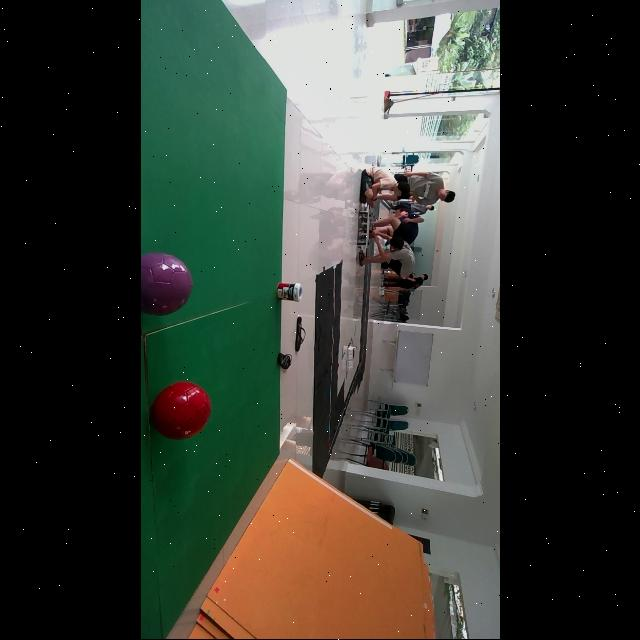P: (140, 253, 193, 316)
R: (151, 381, 211, 440)
